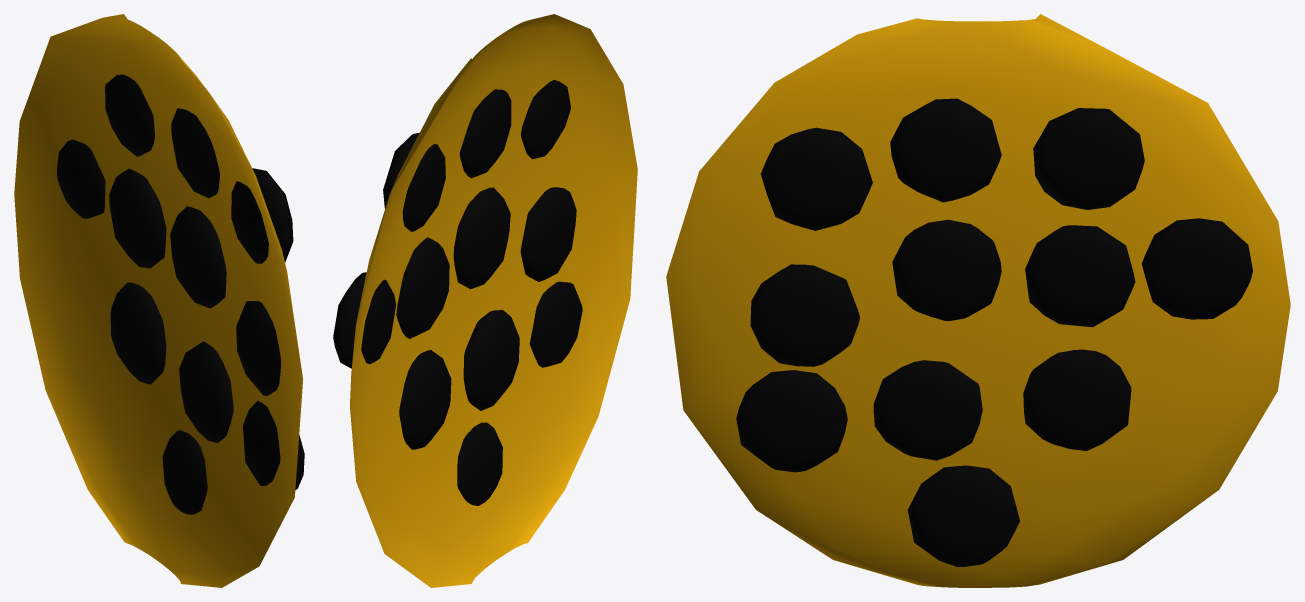
The model's file is cookie_normal.fbx.
3 views of the same model, side by side, from view 1: azimuth 30°, elevation 25°; view 2: azimuth 150°, elevation 25°; view 3: azimuth 270°, elevation 25° (orthographic). The views are drawn at different scales.
Parts seen in each view (by area): view 1: base; view 2: base; view 3: base.
Part boxes in pixels (x1,y1,x2,y2): base: (14, 14, 304, 587); base: (333, 14, 637, 587); base: (666, 14, 1290, 587).
Bounding box in the file's own units: 20.31 × 198 × 196.
